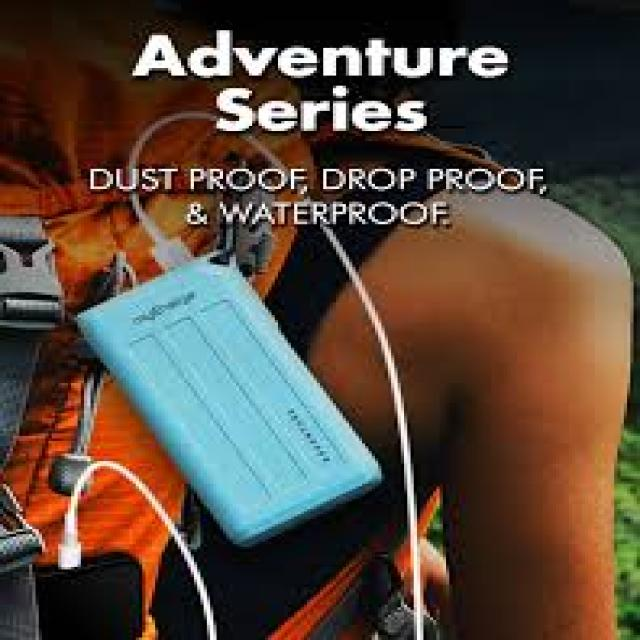portable-charger: (83, 255, 393, 550)
